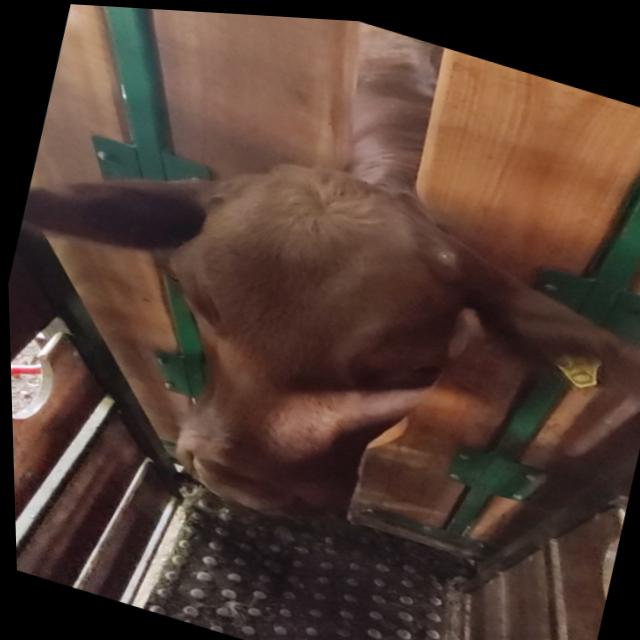cowFace: (104, 127, 488, 553)
